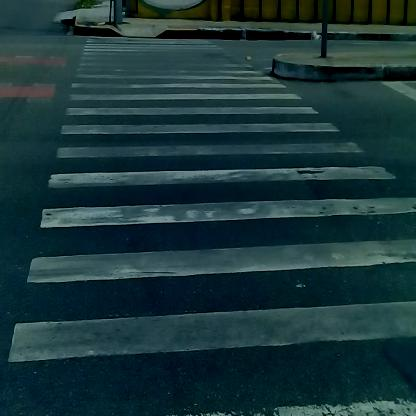crosswalk: (25, 50, 398, 416)
sidewalk: (67, 19, 414, 50)
